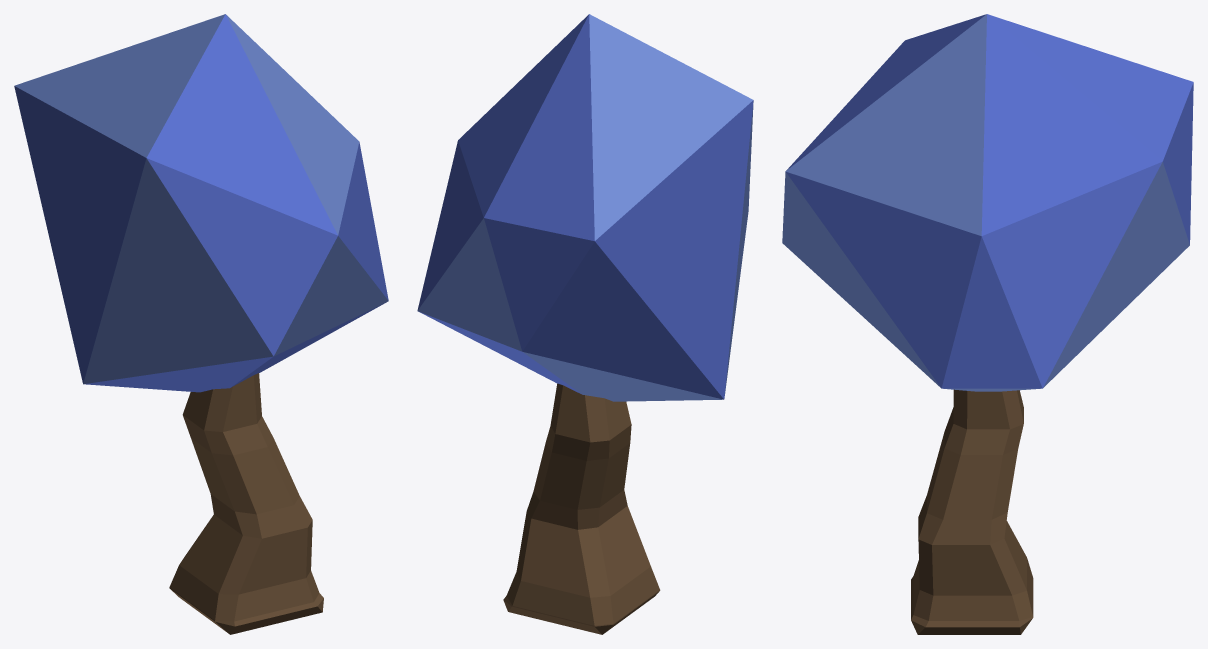
Rendered from Tree_1_Blue.fbx.
3 renders of one model, left to right at view 1: azimuth 30°, elevation 25°; view 2: azimuth 150°, elevation 25°; view 3: azimuth 270°, elevation 25°, orthographic. The views are drawn at different scales.
Parts seen in each view (by area): view 1: Tree_1_Blue_Part_2, Tree_1_Blue_Part_3, Tree_1_Blue_Part_1; view 2: Tree_1_Blue_Part_2, Tree_1_Blue_Part_3, Tree_1_Blue_Part_1; view 3: Tree_1_Blue_Part_2, Tree_1_Blue_Part_3, Tree_1_Blue_Part_1.
Part boxes in pixels (bbox=[...]): Tree_1_Blue_Part_2: bbox=[14, 14, 388, 392]; Tree_1_Blue_Part_3: bbox=[14, 14, 388, 384]; Tree_1_Blue_Part_1: bbox=[169, 373, 323, 634]; Tree_1_Blue_Part_2: bbox=[417, 14, 753, 399]; Tree_1_Blue_Part_3: bbox=[417, 14, 753, 401]; Tree_1_Blue_Part_1: bbox=[503, 383, 660, 634]; Tree_1_Blue_Part_2: bbox=[785, 14, 1193, 388]; Tree_1_Blue_Part_3: bbox=[782, 14, 1189, 391]; Tree_1_Blue_Part_1: bbox=[911, 389, 1033, 634].
Bounding box in the file's own units: 302 × 610 × 385.
